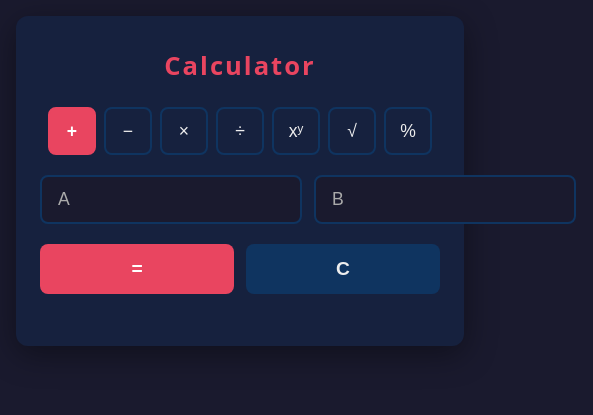
Test: Calculator › displays error from API
The image size is (593, 415).
Click the button named "divide": x=240, y=131 [216,107,264,155]
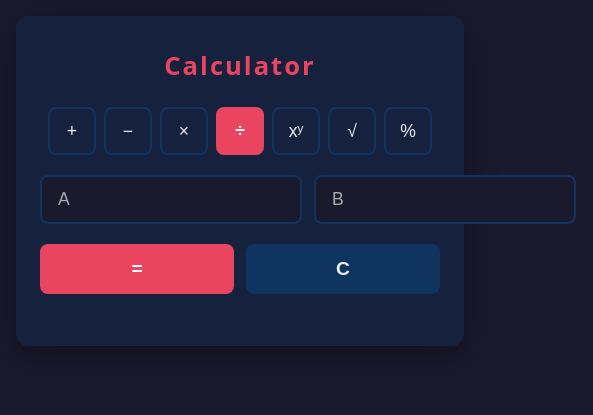
In the number field named "operand-a": x=171, y=200 [40,175,302,224], type "10"
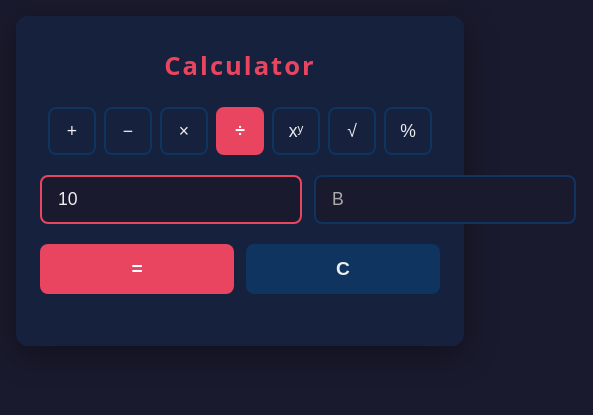
In the number field named "operand-b": x=445, y=200 [314,175,576,224], type "0"
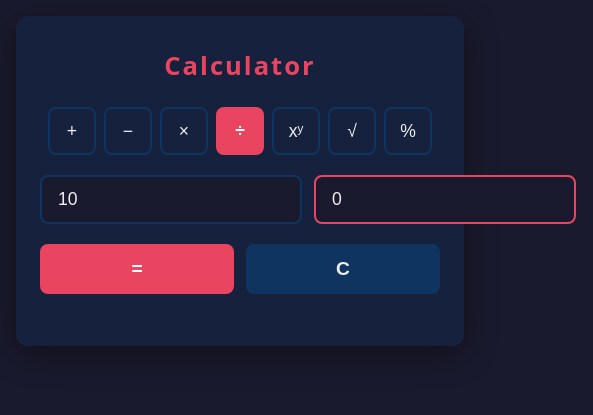
Click the button "=": x=137, y=269 [40,244,234,294]
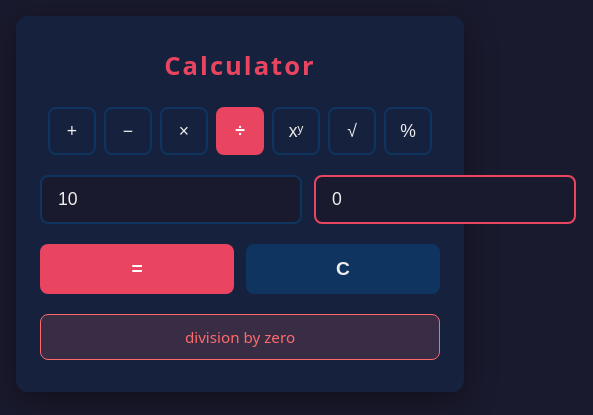
Now the message reads "division by zero", box [185,327,295,347]
